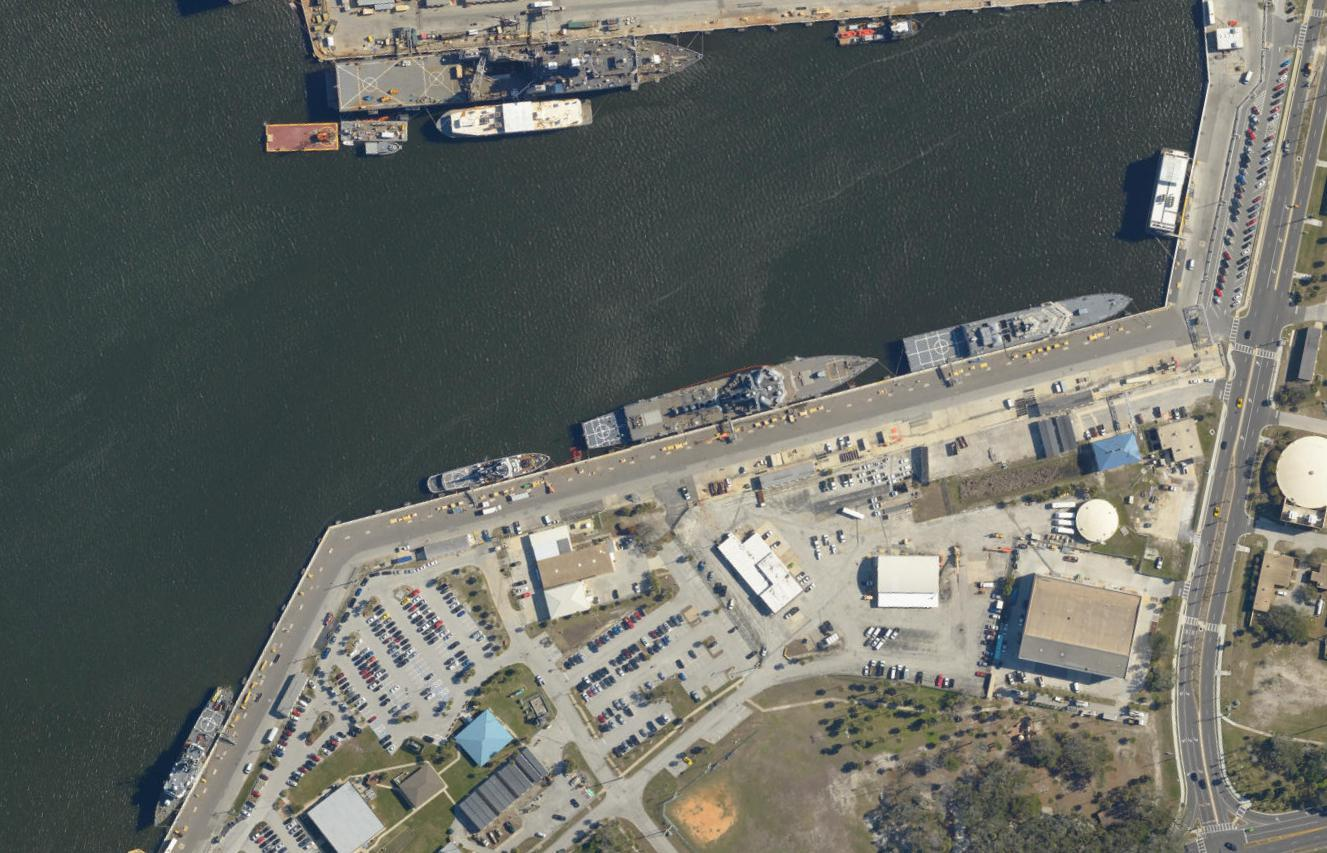amphiby: (328, 28, 709, 117)
fregate: (578, 332, 885, 463)
